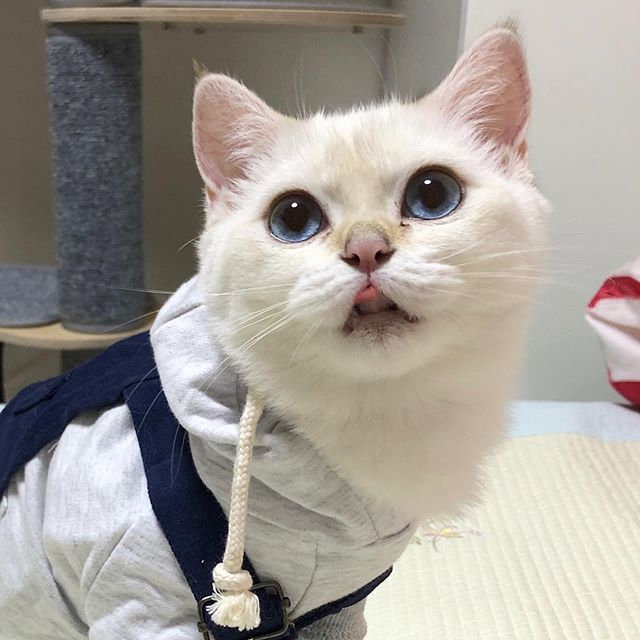cat: (186, 23, 550, 399)
